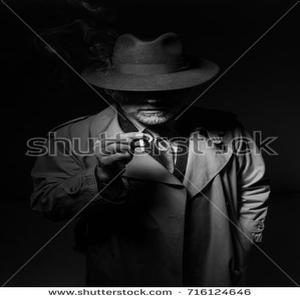cigarette: (140, 130, 146, 158)
